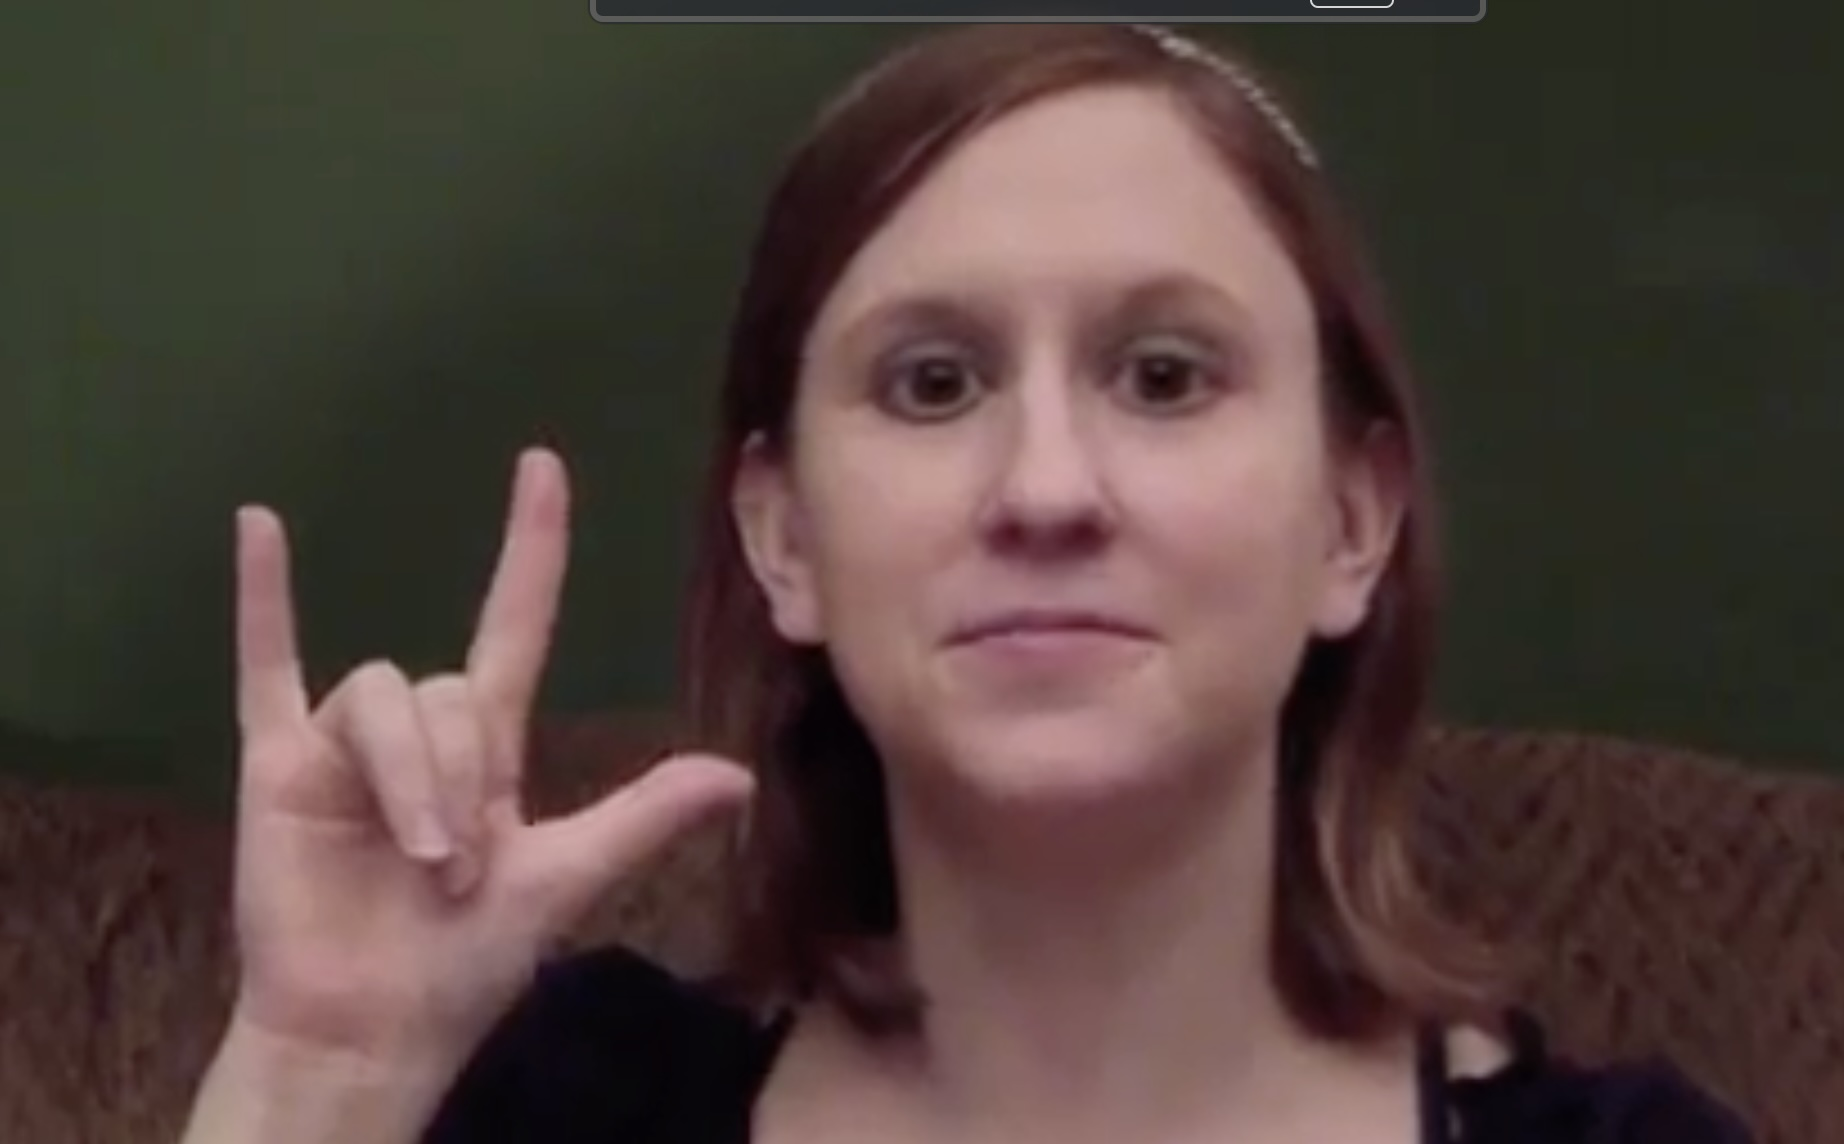loveyou: (206, 413, 776, 1025)
